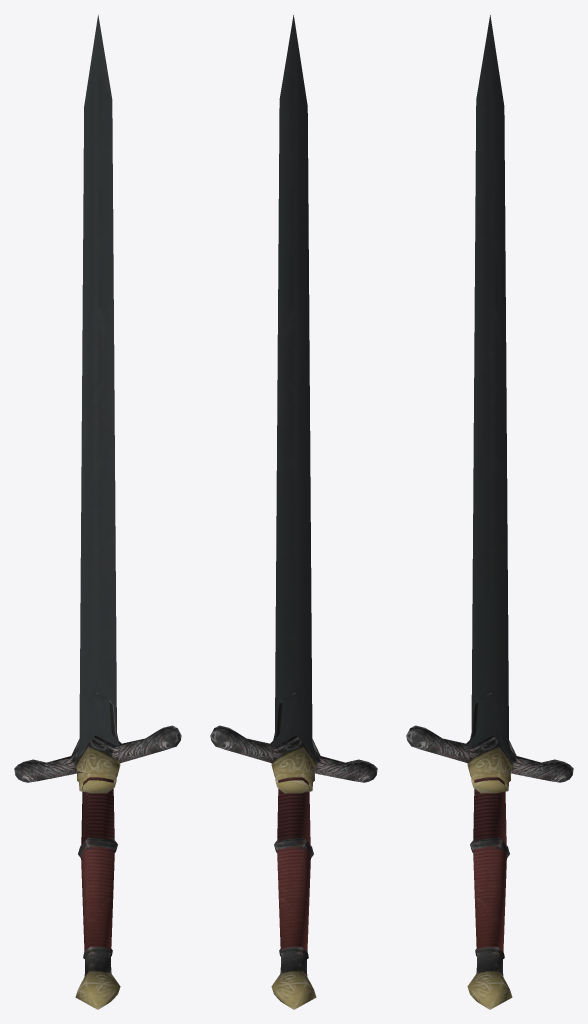
File: sword.glb
3 renders of one model, left to right at view 1: azimuth 30°, elevation 25°; view 2: azimuth 150°, elevation 25°; view 3: azimuth 330°, elevation 25°, orthographic.
Visible parts, largest first — view 1: weapon_noesis_meshnode_0003.003; view 2: weapon_noesis_meshnode_0003.003; view 3: weapon_noesis_meshnode_0003.003.
Boxes of the visible parts, box(x1,y1,x2,y2) form: weapon_noesis_meshnode_0003.003: box(14, 15, 181, 1009); weapon_noesis_meshnode_0003.003: box(210, 15, 377, 1009); weapon_noesis_meshnode_0003.003: box(406, 15, 573, 1009).
Size of the model in its own units: 19.8 by 115 by 5.54.
Materials: 1 (1 with a texture image).
